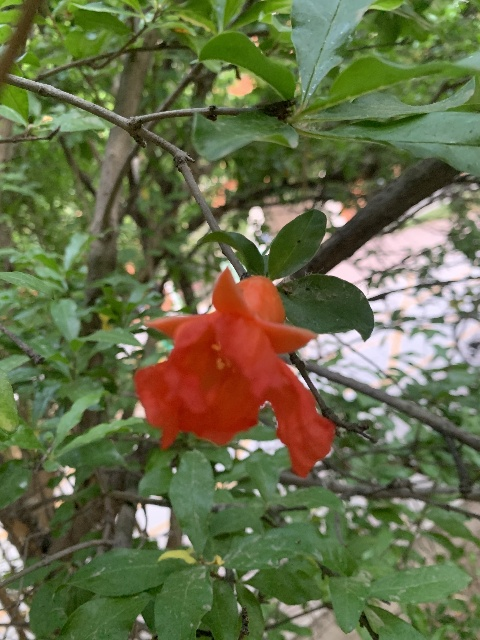flower: (132, 264, 335, 476)
